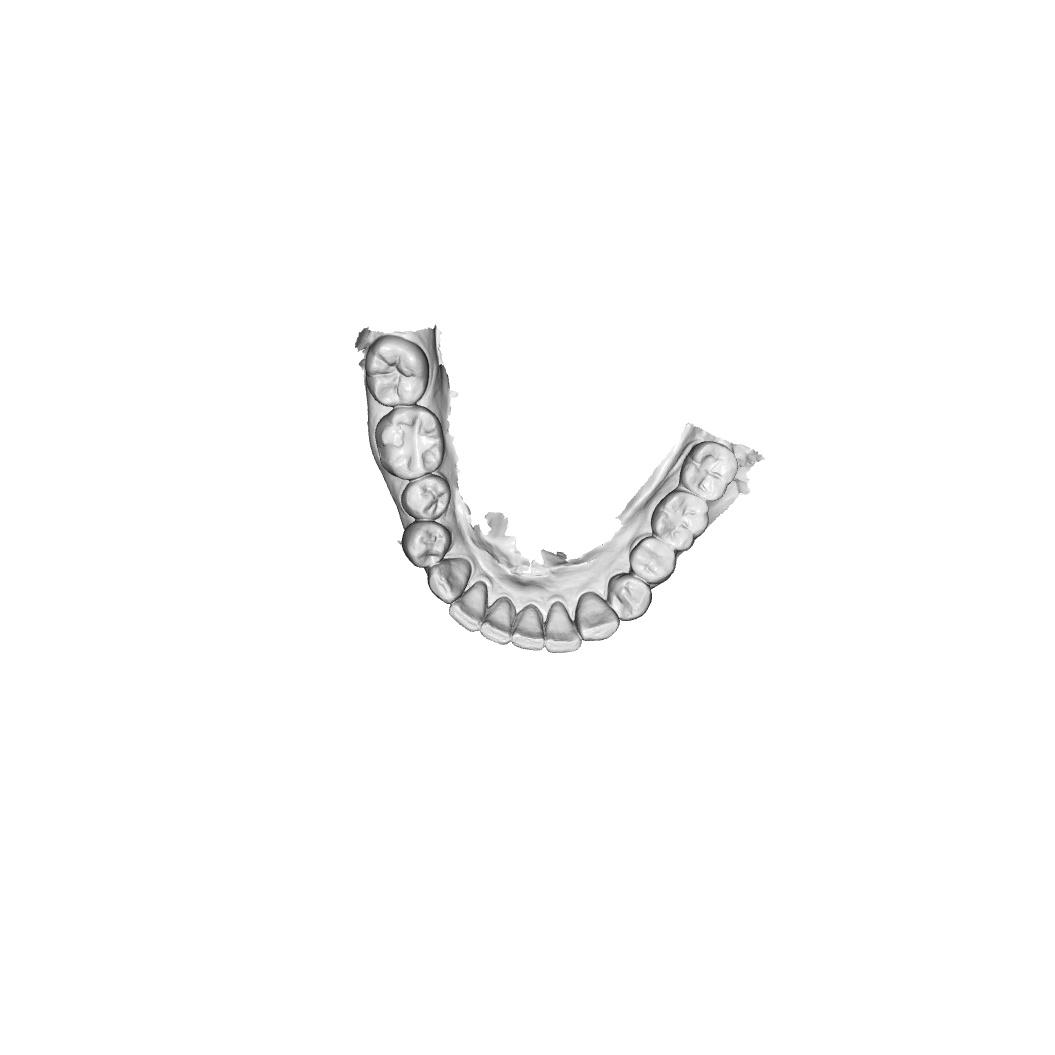canine: (574, 591, 620, 642), (426, 556, 473, 605)
incisor: (448, 580, 489, 633), (545, 600, 583, 654), (480, 595, 517, 646), (511, 604, 545, 652)
molar: (374, 405, 446, 481), (363, 335, 430, 409), (650, 489, 710, 553), (679, 440, 739, 503)
premolar: (400, 520, 453, 569), (629, 535, 677, 587), (400, 473, 452, 521), (607, 572, 653, 622)
